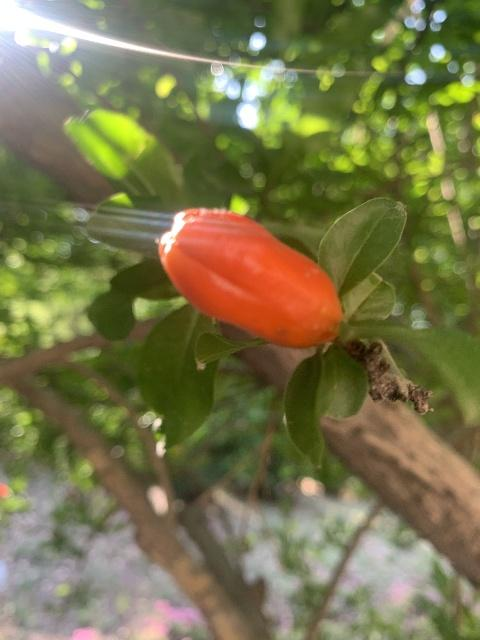bud: (158, 206, 343, 350)
